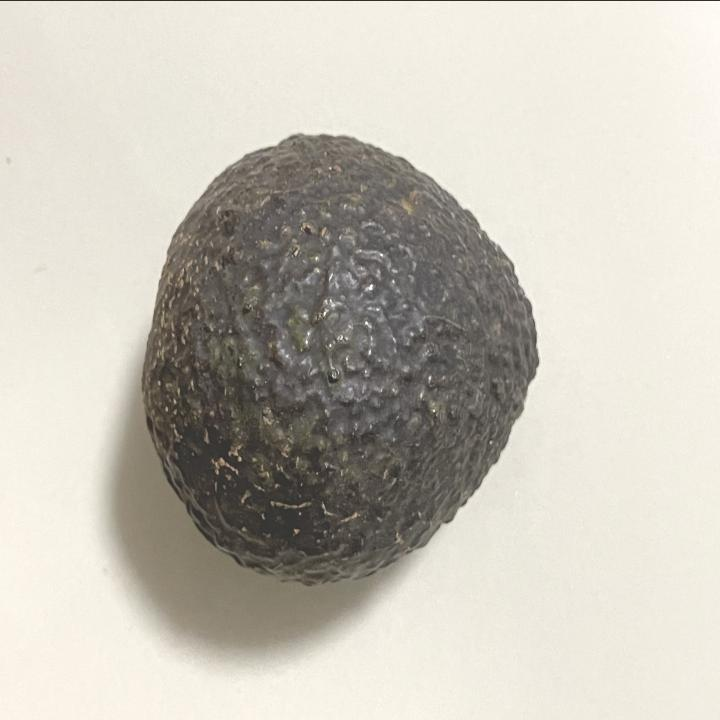Level1: (126, 118, 556, 604)
